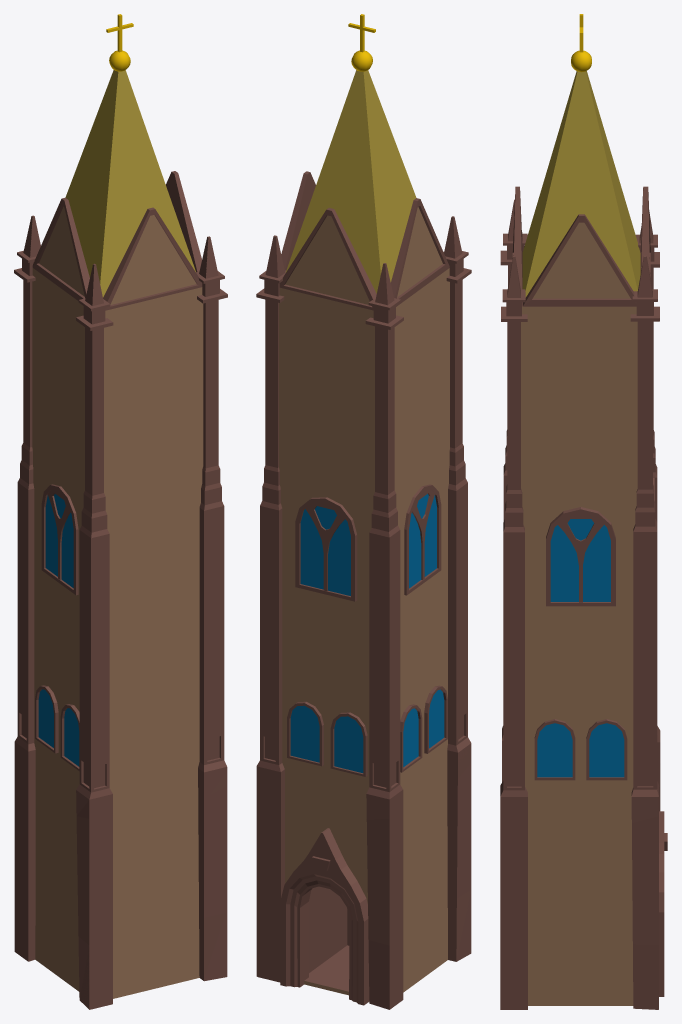
Rendered from Church_Tower.fbx.
The picture shows the model from 3 angles, left to right: view 1: azimuth 30°, elevation 25°; view 2: azimuth 150°, elevation 25°; view 3: azimuth 270°, elevation 25°; orthographic projection.
Parts seen in each view (by area): view 1: pCube1, pCube5, pCube4, polySurface114 (×3), WallPiece_014, WallPiece_021, WallPiece_024, WallPiece_08, WallPiece_09, pCube3, WallPiece_05, WallPiece_04 (+23 smaller); view 2: pCube1, pCube2, pCube5, WallPiece_07, pCylinder1, polySurface114 (×2), WallPiece_02, WallPiece_015, polySurface115 (×2), polySurface111 (×2), polySurface110 (×2), polySurface124 (×2) (+27 smaller); view 3: pCube1, pCube4, WallPiece_010, WallPiece_011, WallPiece_021, WallPiece_08, pCube9, WallPiece_020, WallPiece_05, WallPiece_017, WallPiece_03, polySurface114 (+17 smaller).
Part boxes in pixels (left/top/right/bottom): pCube1: left=32, top=70, right=203, bottom=998; pCube5: left=76, top=263, right=113, bottom=1009; pCube4: left=196, top=236, right=227, bottom=980; polySurface114 (×3): left=14, top=761, right=226, bottom=944; WallPiece_014: left=61, top=766, right=154, bottom=994; WallPiece_021: left=154, top=461, right=203, bottom=637; WallPiece_024: left=61, top=585, right=154, bottom=712; WallPiece_08: left=154, top=793, right=198, bottom=983; WallPiece_09: left=61, top=71, right=154, bottom=391; pCube3: left=15, top=216, right=40, bottom=961; WallPiece_05: left=154, top=679, right=199, bottom=797; WallPiece_04: left=61, top=687, right=154, bottom=802; pCube1: left=279, top=70, right=449, bottom=995; pCube2: left=257, top=235, right=285, bottom=982; pCube5: left=443, top=216, right=471, bottom=961; WallPiece_07: left=327, top=71, right=421, bottom=385; pCylinder1: left=280, top=828, right=369, bottom=1005; polySurface114 (×2): left=367, top=763, right=471, bottom=945; WallPiece_02: left=327, top=558, right=421, bottom=697; WallPiece_015: left=327, top=362, right=421, bottom=511; polySurface115 (×2): left=369, top=556, right=467, bottom=723; polySurface111 (×2): left=369, top=443, right=467, bottom=615; polySurface110 (×2): left=366, top=669, right=471, bottom=819; polySurface124 (×2): left=295, top=496, right=436, bottom=572; pCube1: left=512, top=71, right=650, bottom=1005; pCube4: left=500, top=257, right=527, bottom=1009; WallPiece_010: left=581, top=72, right=649, bottom=416; WallPiece_011: left=515, top=72, right=580, bottom=420; WallPiece_021: left=521, top=473, right=580, bottom=665; WallPiece_08: left=528, top=804, right=580, bottom=1005; pCube9: left=546, top=507, right=615, bottom=606; WallPiece_020: left=581, top=469, right=637, bottom=650; WallPiece_05: left=525, top=694, right=580, bottom=816; WallPiece_017: left=521, top=416, right=580, bottom=478; WallPiece_03: left=581, top=688, right=633, bottom=804; polySurface114: left=632, top=816, right=658, bottom=944.
Bounding box in the file's own units: 3.82 × 25.1 × 3.95.
